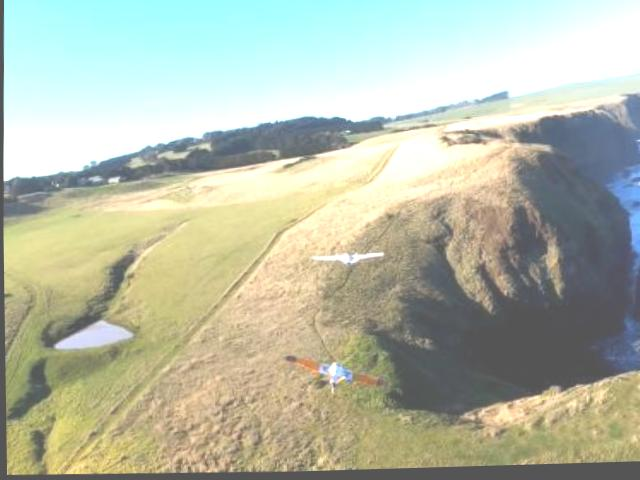uav: (284, 352, 389, 392), (310, 250, 384, 269)
